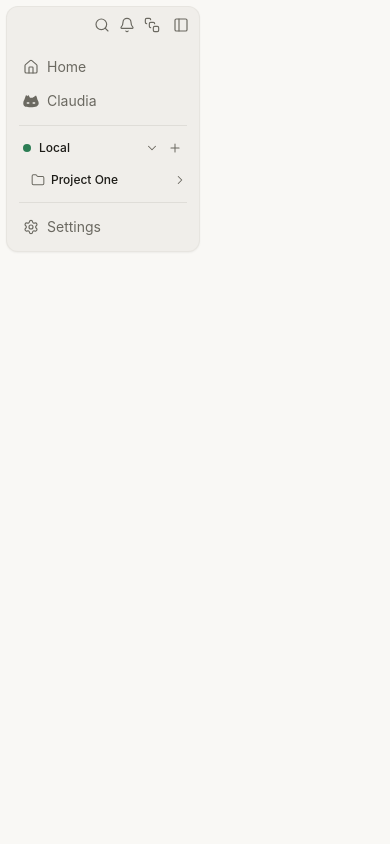
Test: Sidebar › shows new project form when New Project is clicked
Click the button named "New project" at (175, 148), box [163, 136, 187, 160]
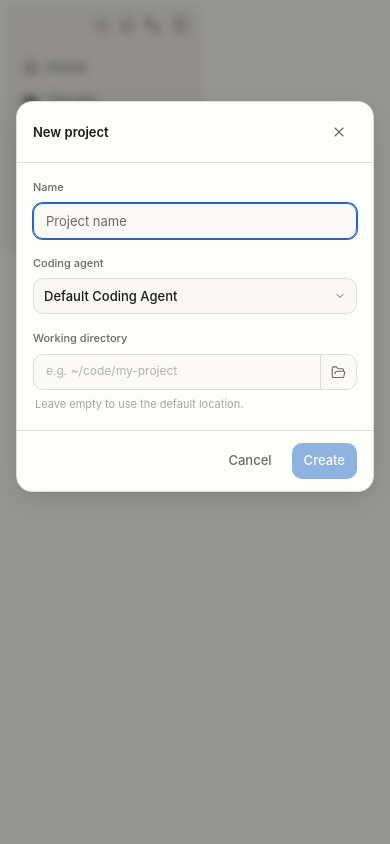
Result: the field labelled "Name" is shown at [33, 203, 357, 239]
Result: the field with placeholder "e.g. ~/code/my-project" is shown at [34, 362, 320, 382]
